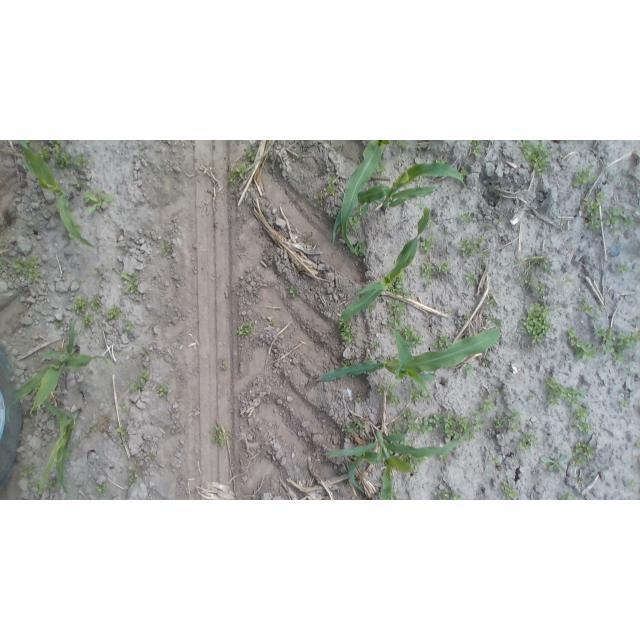Maize: (314, 327, 503, 395), (7, 319, 115, 425), (340, 203, 431, 321), (333, 163, 467, 243), (327, 427, 472, 500), (17, 141, 95, 249), (342, 141, 391, 256), (38, 394, 83, 498)
Weeds: (597, 327, 640, 359), (523, 302, 552, 345), (581, 187, 606, 232), (521, 141, 551, 176), (547, 379, 586, 403), (567, 328, 595, 360), (85, 189, 116, 216), (445, 419, 485, 437), (14, 257, 42, 281), (56, 151, 89, 169), (609, 204, 633, 228), (572, 164, 595, 188), (421, 261, 449, 279), (541, 454, 567, 473), (574, 442, 595, 465), (401, 324, 424, 345), (121, 271, 140, 295), (129, 370, 150, 391), (378, 384, 399, 404), (421, 415, 456, 427), (472, 398, 494, 417), (462, 238, 483, 257), (213, 424, 229, 447), (338, 321, 354, 344), (434, 487, 462, 500), (391, 277, 410, 296), (408, 384, 429, 400), (502, 481, 518, 500), (237, 321, 253, 339), (578, 295, 594, 313), (390, 299, 406, 317), (343, 421, 363, 435), (230, 165, 246, 182), (463, 270, 479, 286), (73, 297, 88, 314), (575, 419, 592, 433), (433, 334, 450, 347), (21, 463, 35, 478), (533, 281, 547, 296), (522, 432, 533, 451), (574, 406, 590, 419), (90, 294, 102, 311), (494, 416, 507, 431), (421, 236, 436, 249), (470, 141, 481, 158), (506, 408, 519, 422), (162, 238, 172, 256), (405, 421, 417, 436), (619, 259, 630, 275), (108, 307, 120, 321), (403, 407, 416, 419), (354, 243, 366, 256), (460, 211, 471, 225), (157, 383, 167, 397), (561, 491, 576, 500), (141, 344, 150, 358), (96, 484, 107, 495), (38, 149, 50, 159), (289, 285, 297, 299), (489, 455, 500, 465), (245, 150, 255, 161), (116, 427, 125, 437), (483, 357, 492, 367), (93, 267, 102, 276), (486, 298, 494, 308), (464, 365, 472, 375), (342, 358, 351, 366), (74, 180, 82, 189), (125, 321, 133, 330), (56, 320, 65, 328), (373, 342, 382, 350), (85, 316, 92, 324), (497, 216, 503, 224)
